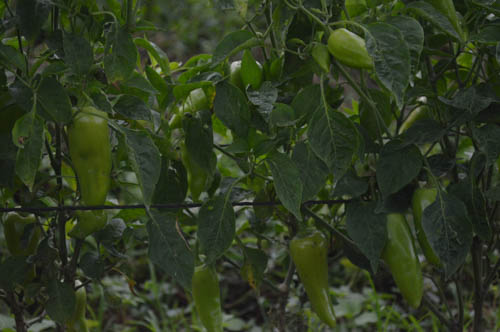ChiliPepper: (67, 110, 107, 236), (380, 210, 422, 308), (296, 232, 336, 326), (415, 185, 446, 261), (193, 262, 223, 329), (329, 29, 370, 70), (180, 139, 206, 203)
